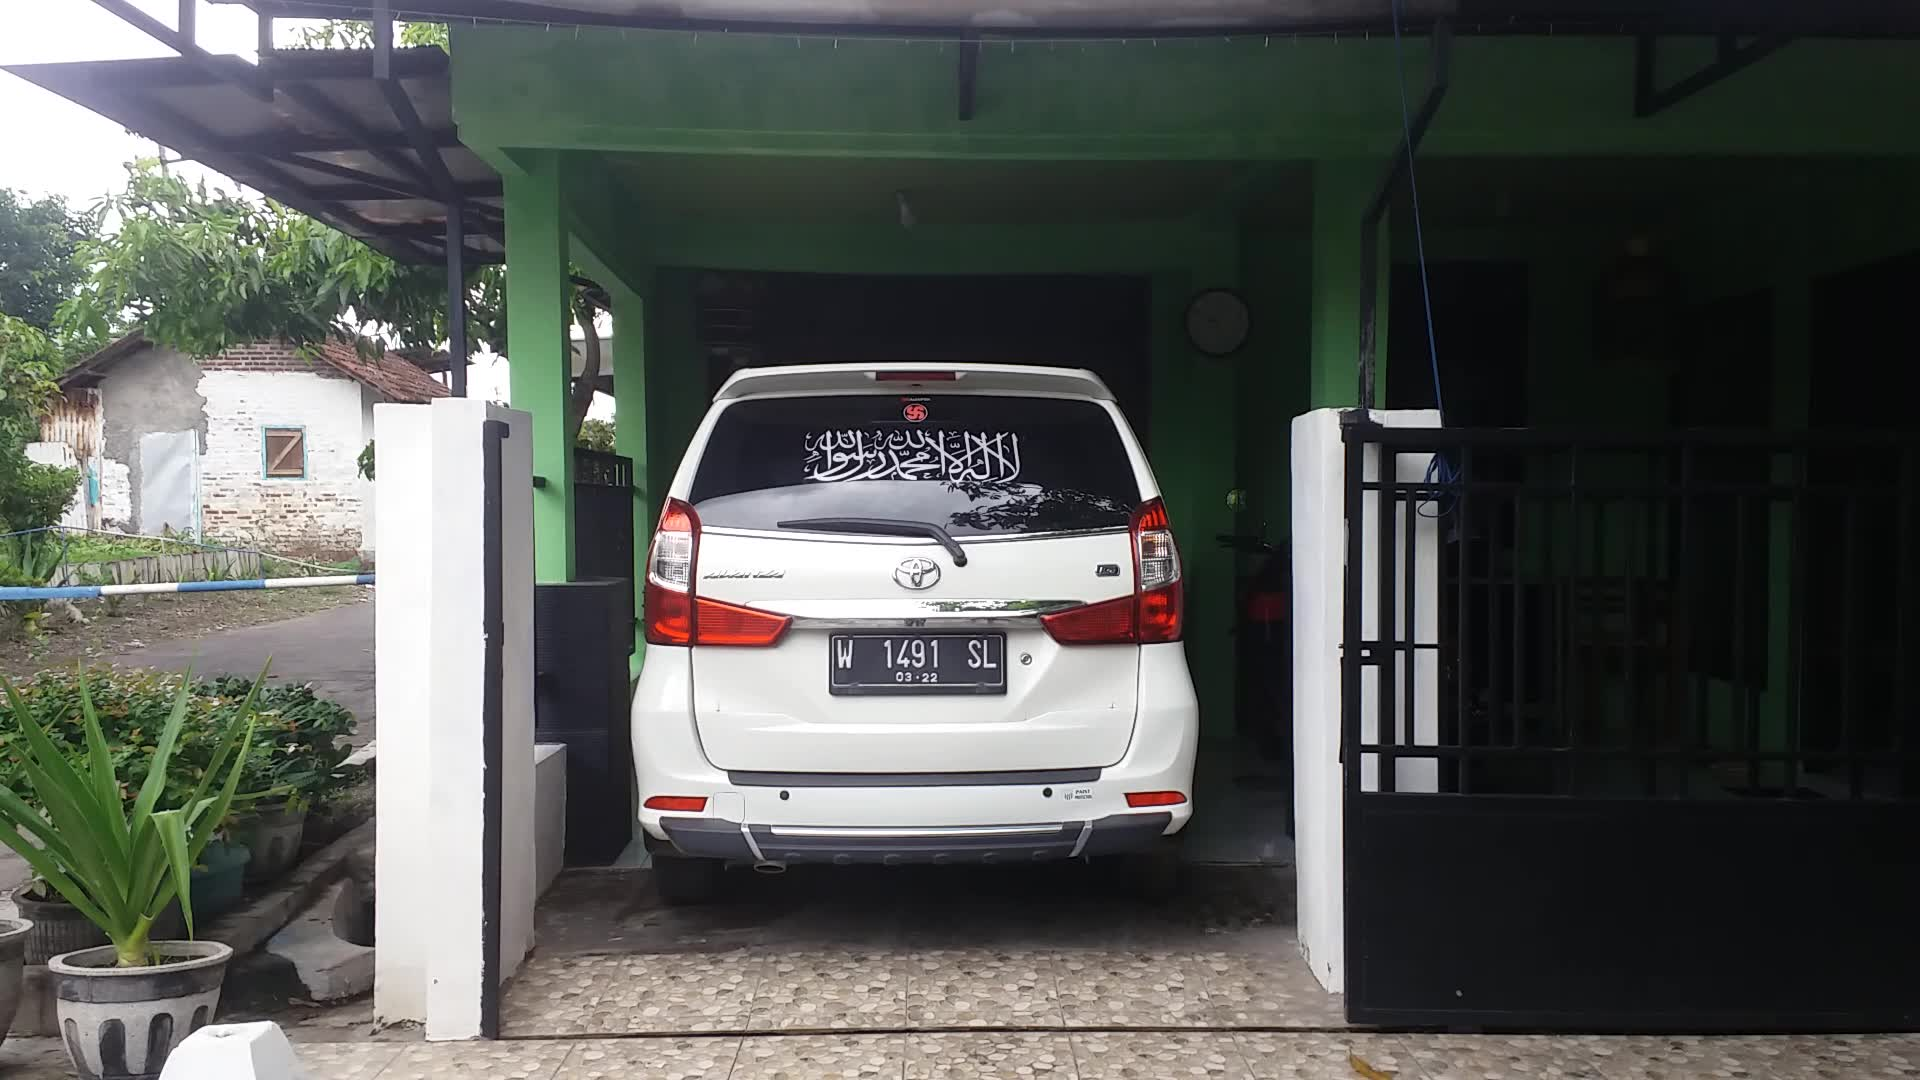plate_positive: (828, 632, 1007, 696)
